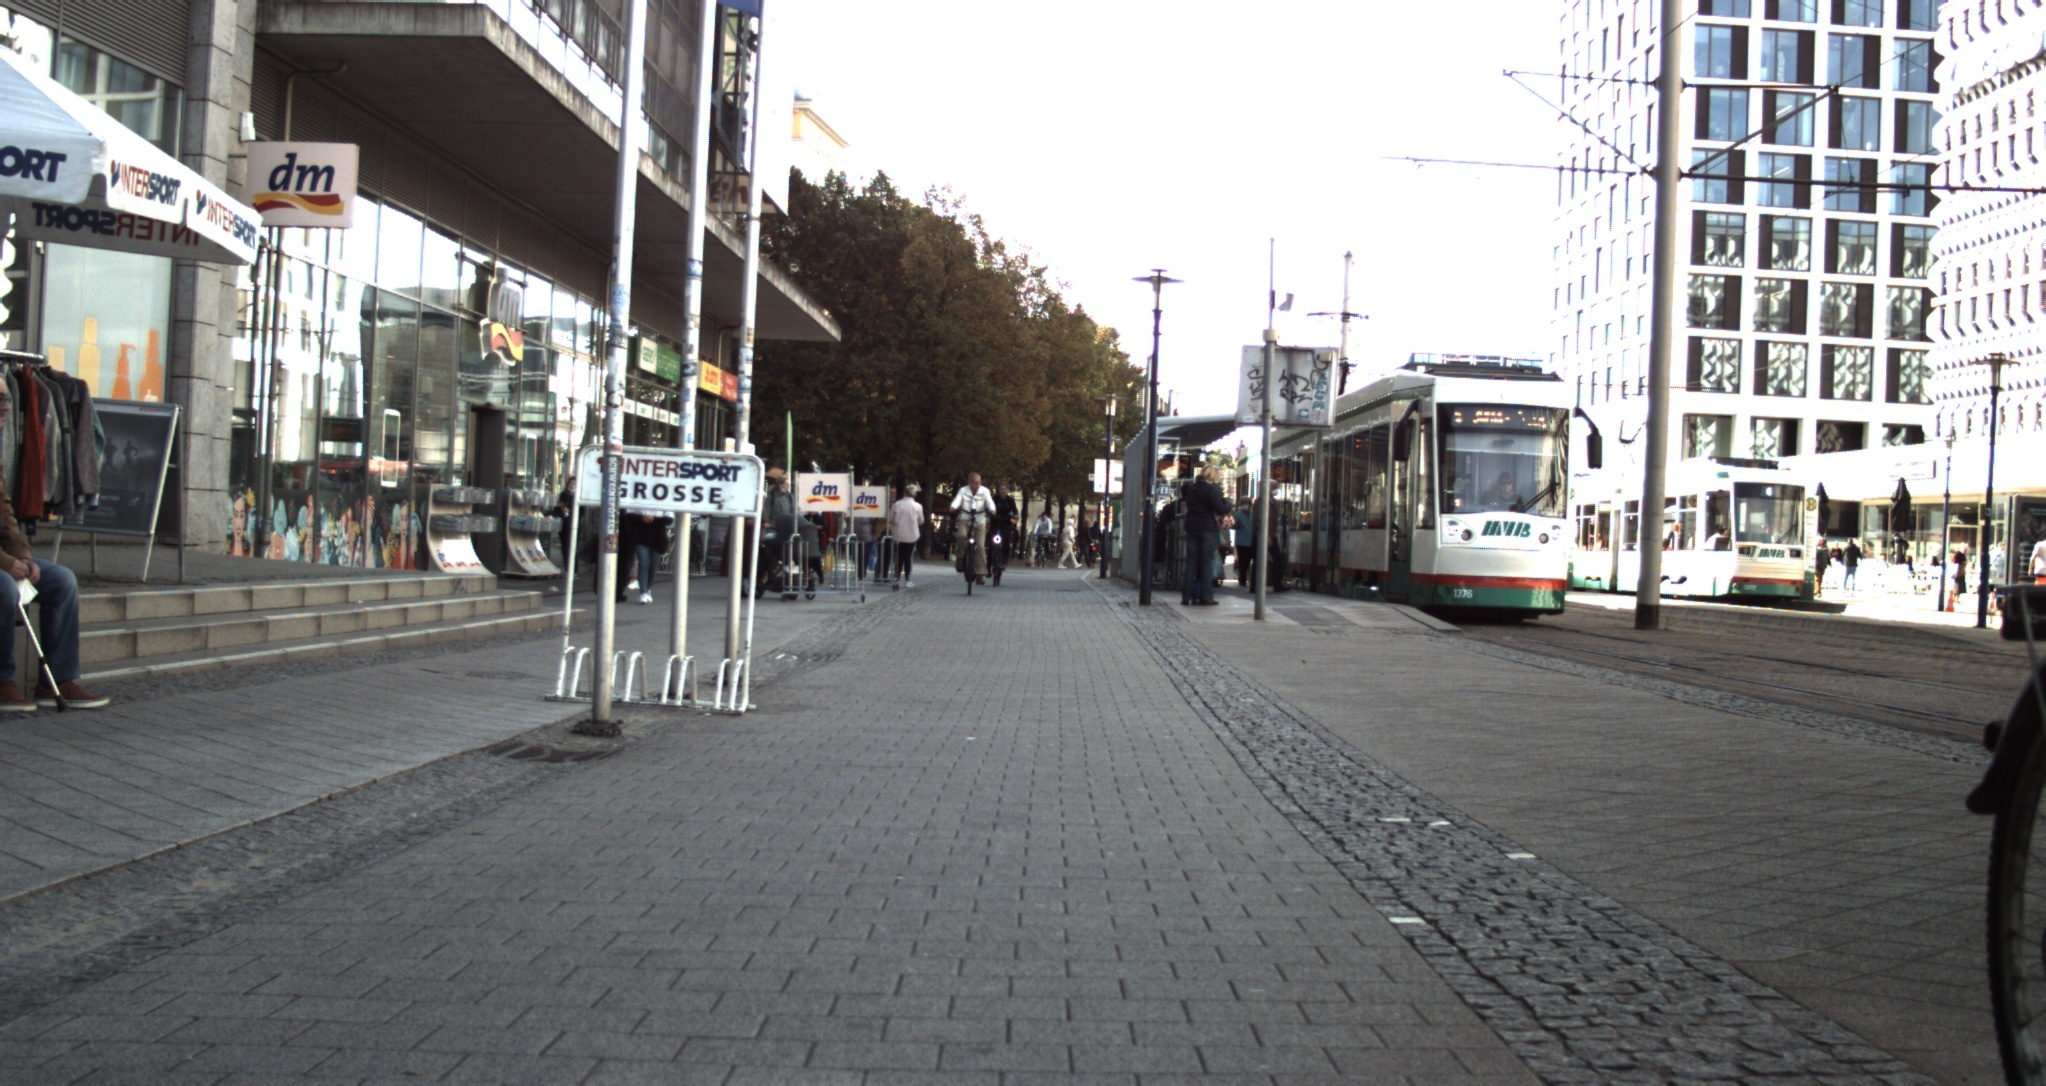adult without baby buggy or mobility support: (1180, 465, 1230, 606), (887, 484, 924, 587), (637, 505, 668, 601), (559, 477, 581, 572), (1058, 518, 1078, 570)
cyclist with bicycle: (949, 472, 996, 599), (985, 484, 1019, 591), (1030, 511, 1054, 570)
tram: (1236, 353, 1604, 624), (1564, 455, 1805, 605)
